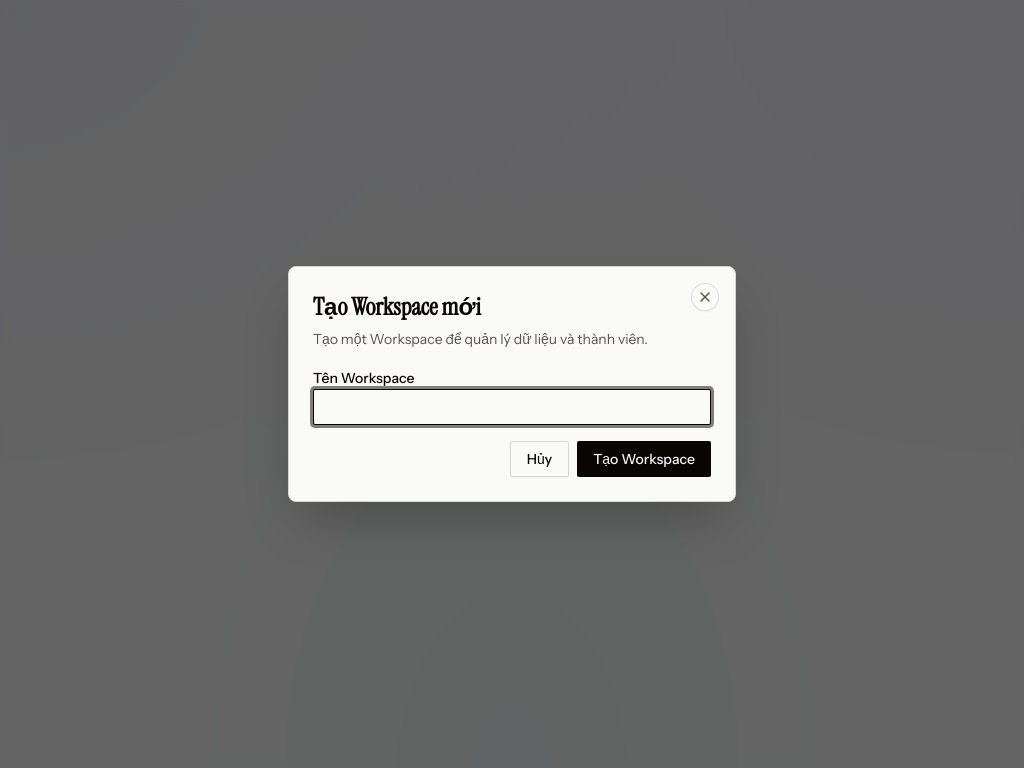
Scenario: CreateWorkspaceModal › shows a loading state while creation is pending
Type "Workspace" into the field labelled "Tên Workspace".
click(512, 407); type("Workspace")  # box [313,389,711,425]
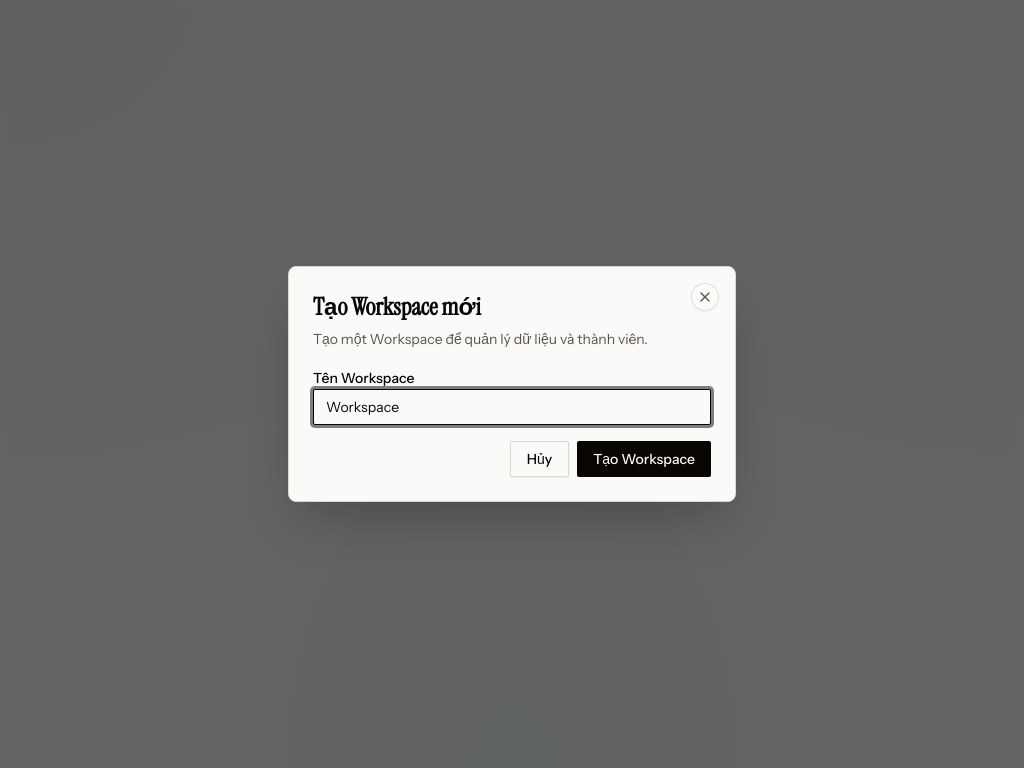
Click the button "Tạo Workspace".
click(644, 459)  # box [577,441,711,477]
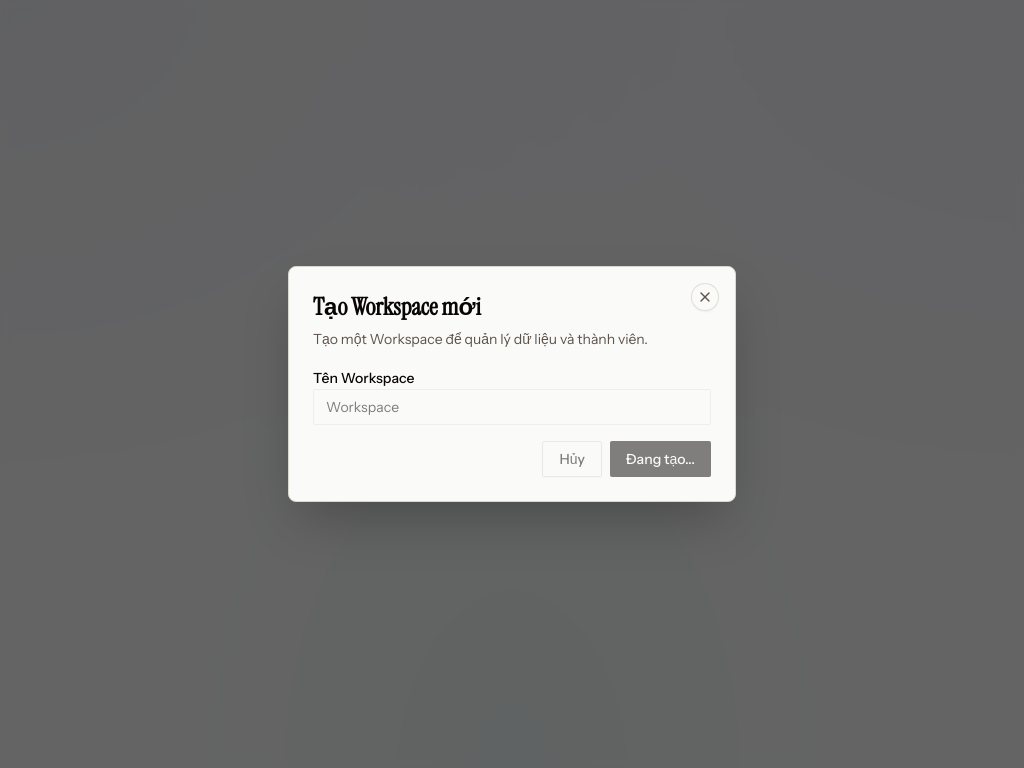
Result: the button "Đang tạo..." is disabled at [610,441,711,477]
